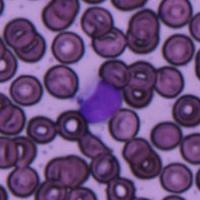L: (78, 78, 123, 124)
